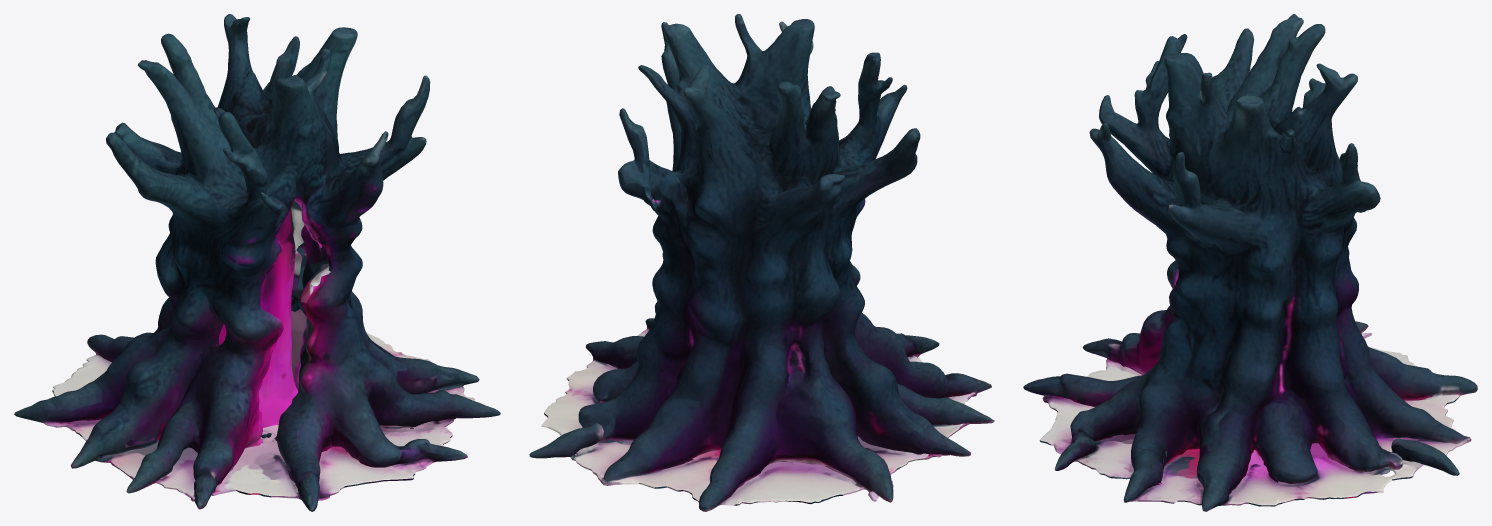
File: root-east-generated-2026-04-19T17-05-01-813Z.high.glb
3 views of the same model, side by side, from view 1: azimuth 30°, elevation 25°; view 2: azimuth 150°, elevation 25°; view 3: azimuth 270°, elevation 25° (orthographic).
Parts seen in each view (by area): view 1: temp_mesh.ply; view 2: temp_mesh.ply; view 3: temp_mesh.ply.
Boxes of the visible parts, x1=… form: temp_mesh.ply: x1=14, y1=14, x2=500, y2=511; temp_mesh.ply: x1=529, y1=14, x2=994, y2=511; temp_mesh.ply: x1=1023, y1=14, x2=1477, y2=511.
Bounding box in the file's own units: 1.97 × 1.77 × 1.97.
Materials: 1 (1 with a texture image).
